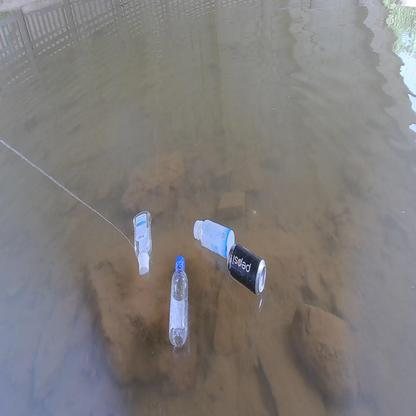can: (226, 245, 268, 295)
plastic bottle: (168, 257, 186, 347), (193, 219, 235, 257), (131, 211, 153, 275)
